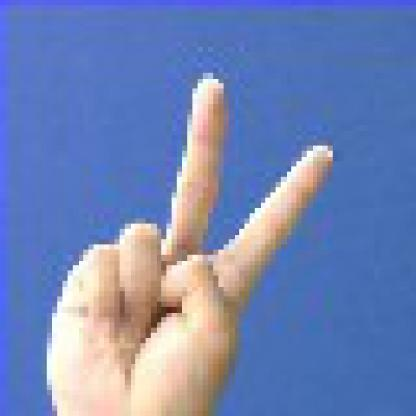two: (35, 68, 343, 415)
